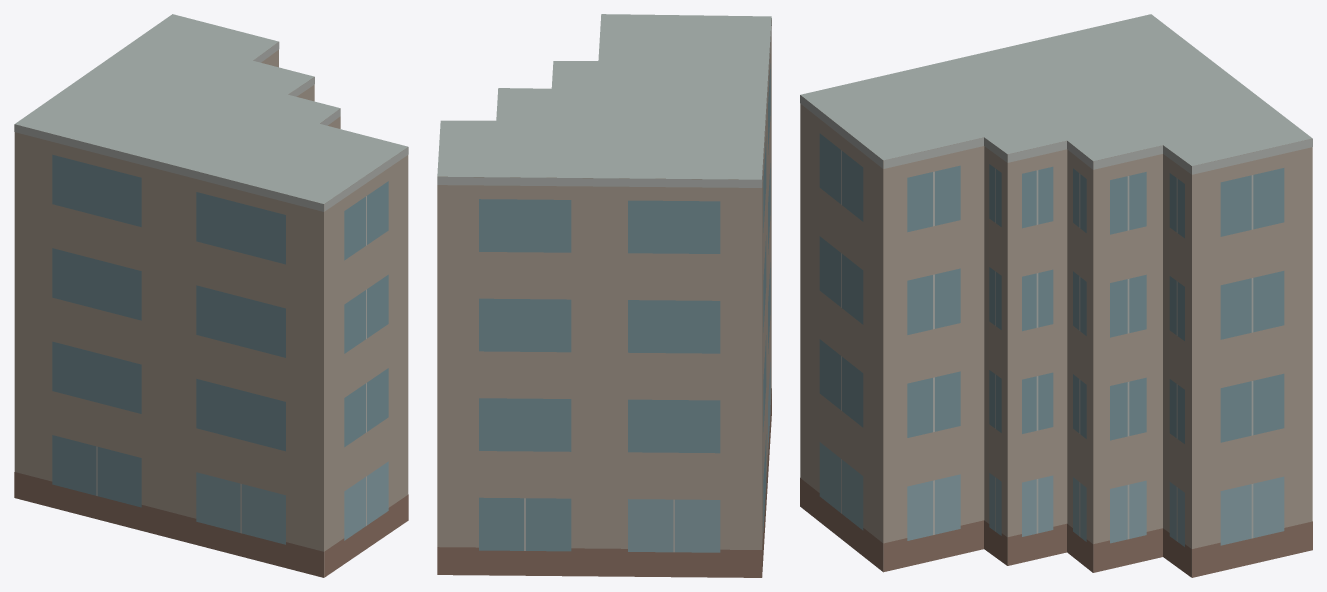
File: survey-upis-32718993.glb
The picture shows the model from 3 angles, left to right: view 1: azimuth 30°, elevation 25°; view 2: azimuth 150°, elevation 25°; view 3: azimuth 270°, elevation 25°; orthographic projection. The views are drawn at different scales.
Visible parts, largest first — view 1: survey-upis-32718993.tmp; view 2: survey-upis-32718993.tmp; view 3: survey-upis-32718993.tmp.
Boxes of the visible parts, <box> form: survey-upis-32718993.tmp: <box>14,14,408,577</box>; survey-upis-32718993.tmp: <box>437,14,771,577</box>; survey-upis-32718993.tmp: <box>800,14,1312,577</box>.
Bounding box in the file's own units: 9.2 × 11.6 × 13.1.
